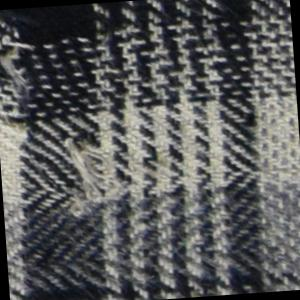Damage: (61, 120, 122, 227), (1, 8, 46, 146)
